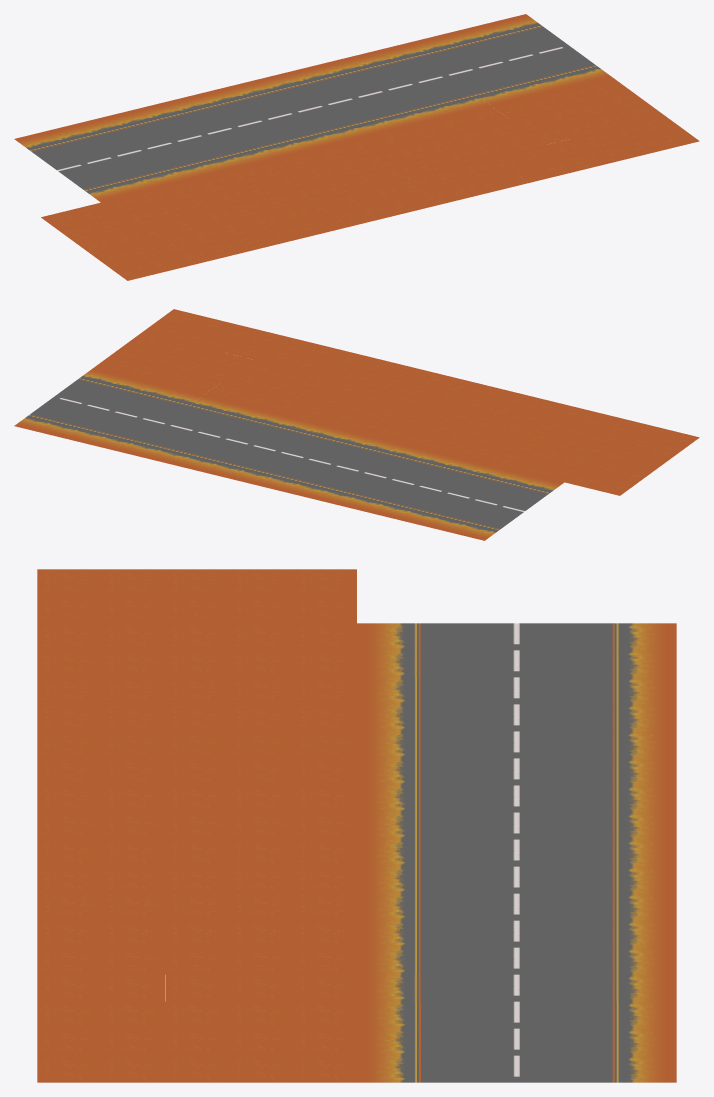
Rendered from WeavingVan.fbx.
3 renders of one model, top to bottom at view 1: azimuth 30°, elevation 25°; view 2: azimuth 150°, elevation 25°; view 3: azimuth 270°, elevation 25°, orthographic. The views are drawn at different scales.
Parts seen in each view (by area): view 1: Floor2x41, Floor2x148, Floor2x59 (3), Floor2x56, Floor2x92, Floor2x91 (3), Floor2x84, Floor2x32, Floor2x58 (4), Floor2x147, Floor2x12, Floor2x8 (+168 smaller); view 2: Floor2x144, Floor2x58 (4), Floor2x12, Floor2x47, Floor2x114 (2), Floor2x91 (4), Floor2x102, Floor2x84, Floor2x58, Floor2x41, Floor2x147, Floor2x22 (+168 smaller); view 3: Floor2x8, Floor2x9, Floor2x7, Floor2x10, Floor2x126, Floor2x25, Floor2x48, Floor2x32, Floor2x45, Floor2x58, Floor2x41, Floor2x147 (+168 smaller).
Boxes of the visible parts, x1=… form: Floor2x41: x1=350, y1=83, x2=396, y2=103; Floor2x148: x1=32, y1=144, x2=78, y2=164; Floor2x59 (3): x1=466, y1=21, x2=512, y2=41; Floor2x56: x1=74, y1=117, x2=121, y2=136; Floor2x92: x1=497, y1=132, x2=544, y2=152; Floor2x91 (3): x1=588, y1=110, x2=634, y2=130; Floor2x84: x1=239, y1=178, x2=285, y2=198; Floor2x32: x1=290, y1=98, x2=336, y2=118; Floor2x58 (4): x1=531, y1=39, x2=577, y2=59; Floor2x147: x1=79, y1=150, x2=125, y2=169; Floor2x12: x1=169, y1=127, x2=216, y2=147; Floor2x8: x1=200, y1=120, x2=246, y2=140; Floor2x144: x1=624, y1=454, x2=667, y2=472; Floor2x58 (4): x1=46, y1=391, x2=89, y2=409; Floor2x12: x1=378, y1=472, x2=421, y2=490; Floor2x47: x1=390, y1=490, x2=433, y2=508; Floor2x114 (2): x1=197, y1=334, x2=240, y2=352; Floor2x91 (4): x1=126, y1=332, x2=169, y2=350; Floor2x102: x1=375, y1=393, x2=418, y2=411; Floor2x84: x1=442, y1=425, x2=485, y2=443; Floor2x58: x1=129, y1=411, x2=171, y2=429; Floor2x41: x1=212, y1=431, x2=255, y2=449; Floor2x147: x1=462, y1=492, x2=504, y2=510; Floor2x22: x1=311, y1=440, x2=354, y2=458; Floor2x8: x1=484, y1=758, x2=548, y2=785; Floor2x9: x1=420, y1=758, x2=484, y2=785; Floor2x7: x1=548, y1=758, x2=612, y2=785; Floor2x10: x1=612, y1=758, x2=676, y2=785; Floor2x126: x1=37, y1=812, x2=101, y2=839; Floor2x25: x1=484, y1=812, x2=548, y2=839; Floor2x48: x1=484, y1=704, x2=548, y2=731; Floor2x32: x1=484, y1=839, x2=548, y2=866; Floor2x45: x1=484, y1=920, x2=548, y2=947; Floor2x58: x1=484, y1=974, x2=548, y2=1001; Floor2x41: x1=484, y1=893, x2=548, y2=920; Floor2x147: x1=484, y1=650, x2=548, y2=677.
Bounding box in the file's own units: 91.2 × 1.09e-05 × 48.
Materials: 4 (4 with a texture image).
